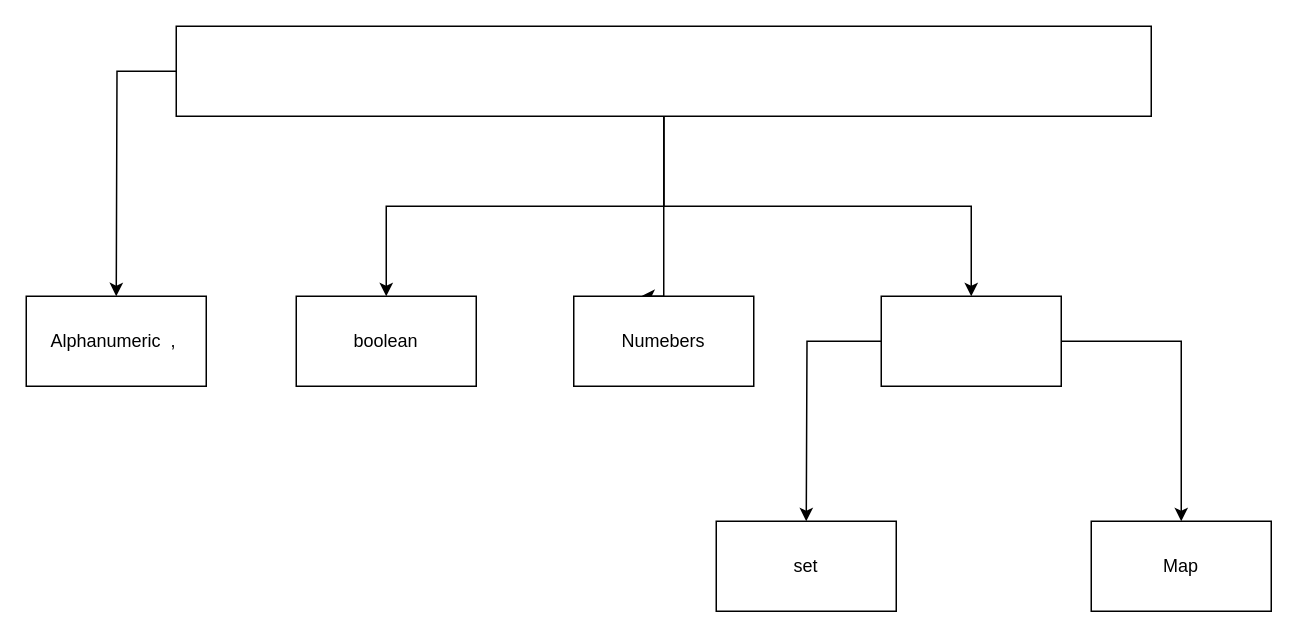
Image size: 1298x638. Some labels were removed from this diagram. Each missing label, with the box of its shape:
List [ ]: (880, 295, 1061, 386)
Variable: (175, 25, 1151, 116)
